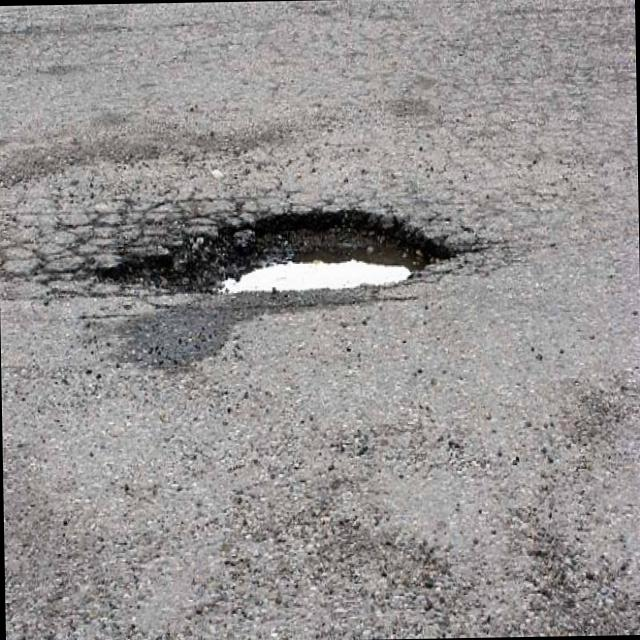Potholes: (82, 166, 490, 352)
